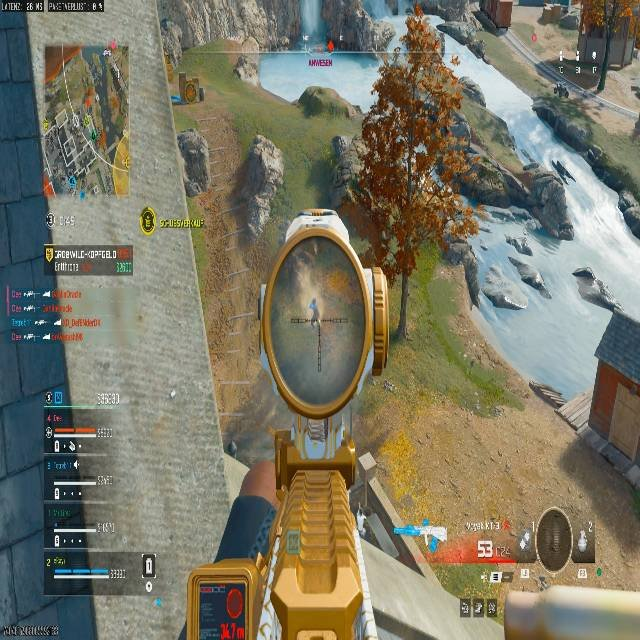player: (307, 296, 319, 331), (552, 81, 569, 98)
